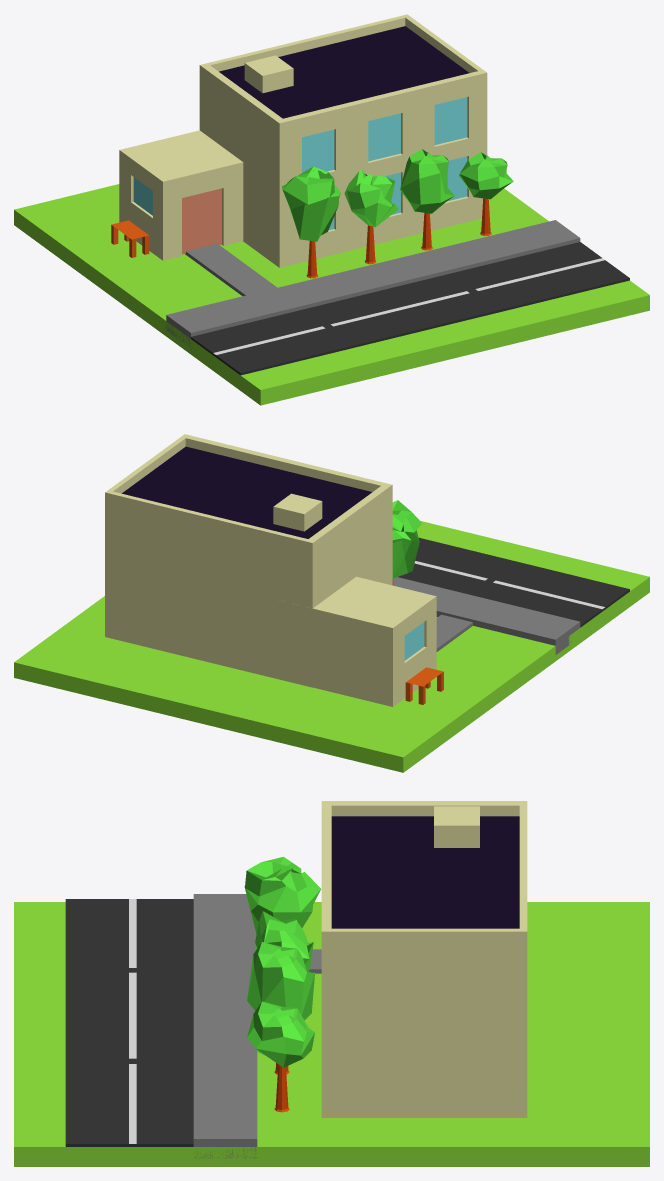
Rendered from Lab1 1.fbx.
3 renders of one model, top to bottom at view 1: azimuth 30°, elevation 25°; view 2: azimuth 150°, elevation 25°; view 3: azimuth 270°, elevation 25°, orthographic. The views are drawn at different scales.
Visible parts, largest first — view 1: House, Ground, Road, Tree1, Sit; view 2: House, Ground, Road, Tree1, Sit; view 3: Ground, House, Road, Tree1.
Boxes of the visible parts, bbox=[...] form: House: bbox=[119, 14, 487, 267]; Ground: bbox=[14, 184, 649, 405]; Road: bbox=[166, 220, 629, 375]; Tree1: bbox=[281, 149, 513, 278]; Sit: bbox=[111, 220, 149, 257]; House: bbox=[105, 434, 436, 706]; Ground: bbox=[14, 521, 649, 772]; Road: bbox=[393, 537, 629, 654]; Tree1: bbox=[392, 500, 422, 585]; Sit: bbox=[405, 667, 443, 704]; Ground: bbox=[14, 902, 649, 1166]; House: bbox=[321, 801, 527, 1117]; Road: bbox=[65, 894, 321, 1158]; Tree1: bbox=[244, 856, 320, 1112].
Bounding box in the file's own units: 4087 × 1707 × 4484.
